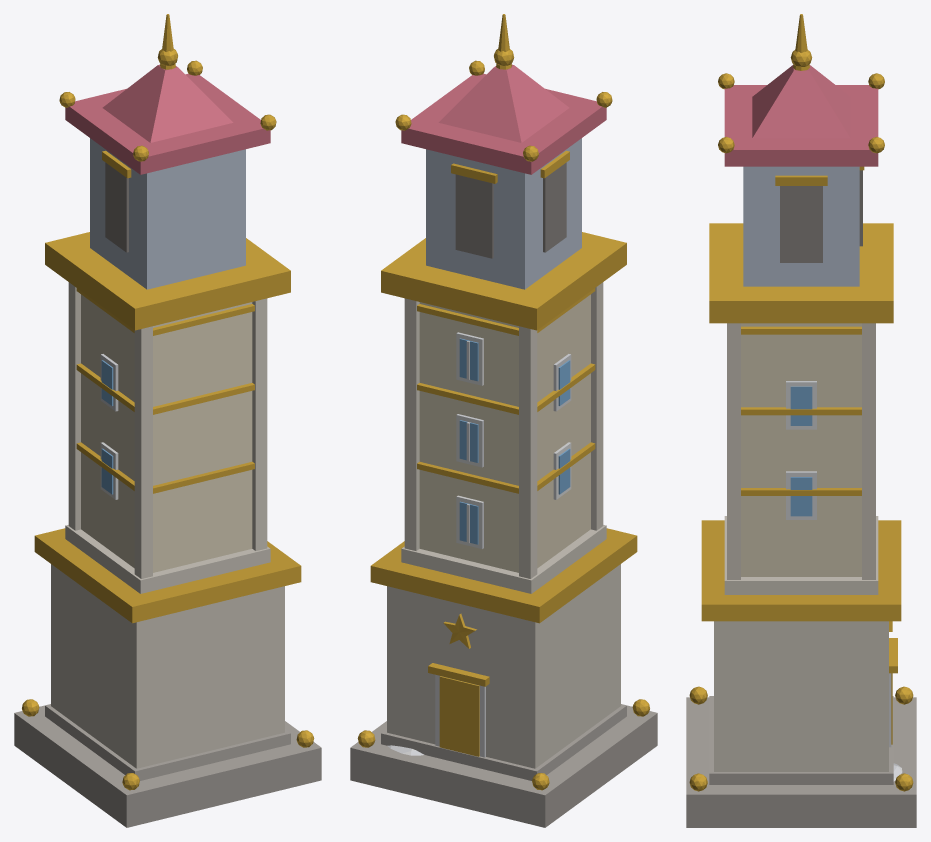
Rendered from Decor_CloudTemple_SkySpire.fbx.
3 renders of one model, left to right at view 1: azimuth 30°, elevation 25°; view 2: azimuth 150°, elevation 25°; view 3: azimuth 270°, elevation 25°, orthographic. The views are drawn at different scales.
Visible parts, largest first — view 1: SkySpire_Body; view 2: SkySpire_Body; view 3: SkySpire_Body.
Boxes of the visible parts, left/top/right/bottom form: SkySpire_Body: left=14, top=14, right=321, bottom=827; SkySpire_Body: left=350, top=14, right=657, bottom=827; SkySpire_Body: left=686, top=14, right=916, bottom=827.
Size of the model in its own units: 15 by 55 by 15.
